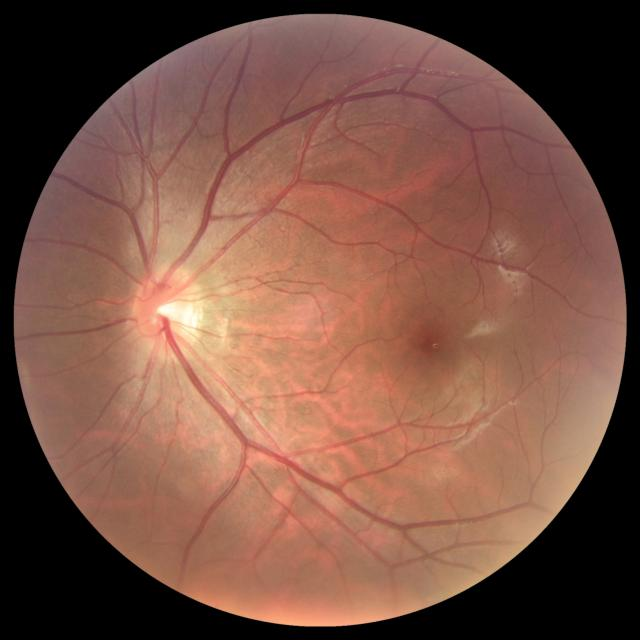OC: (153, 293, 190, 330)
OD: (132, 266, 204, 360)
